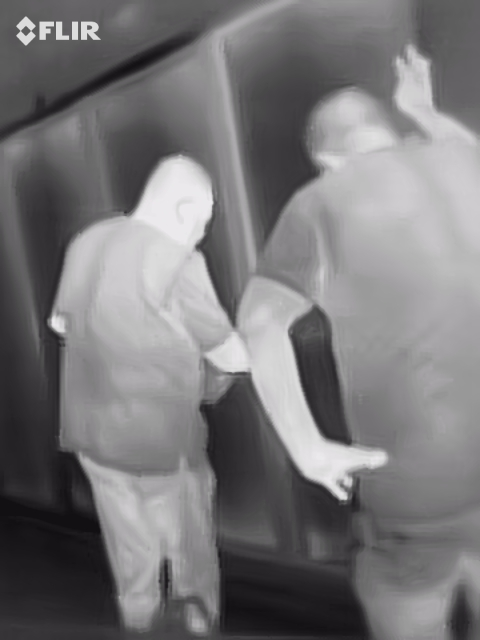head: (305, 83, 393, 170), (150, 155, 212, 246)
